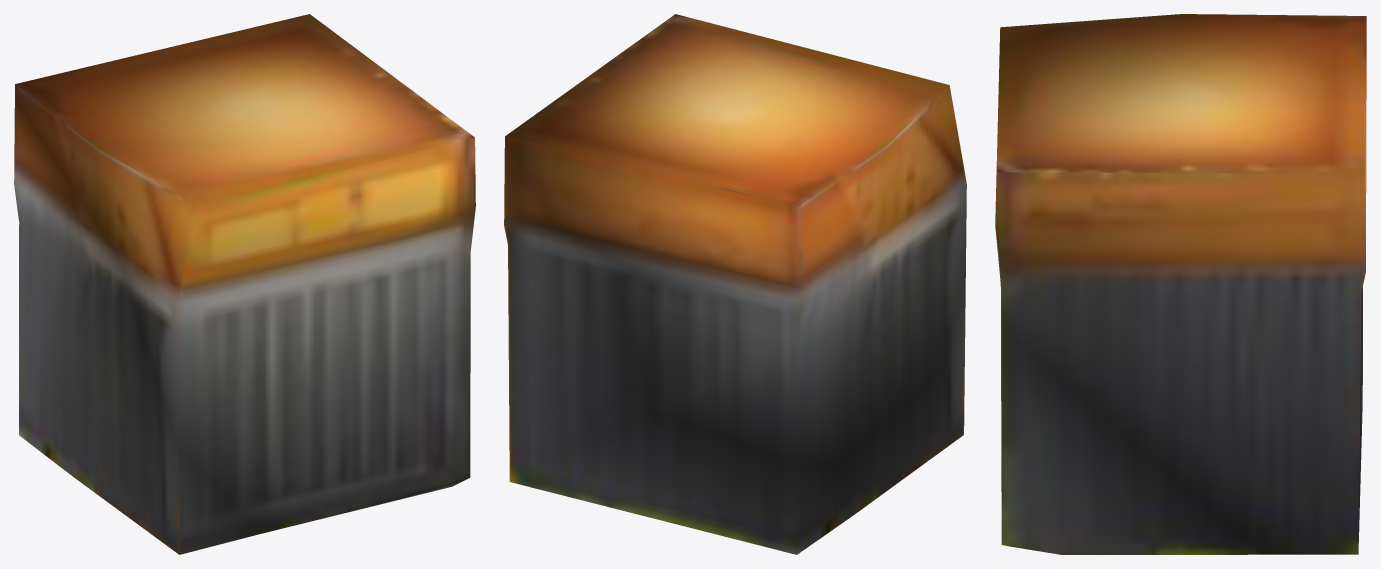
Rendered from dustbin.fbx.
3 renders of one model, left to right at view 1: azimuth 30°, elevation 25°; view 2: azimuth 150°, elevation 25°; view 3: azimuth 270°, elevation 25°, orthographic. The views are drawn at different scales.
Visible parts, largest first — view 1: Mesh_0.001; view 2: Mesh_0.001; view 3: Mesh_0.001.
Boxes of the visible parts, bbox=[...] form: Mesh_0.001: bbox=[14, 14, 475, 554]; Mesh_0.001: bbox=[504, 14, 966, 554]; Mesh_0.001: bbox=[995, 14, 1366, 554].
Size of the model in its own units: 62.35 by 70.03 by 61.38.
